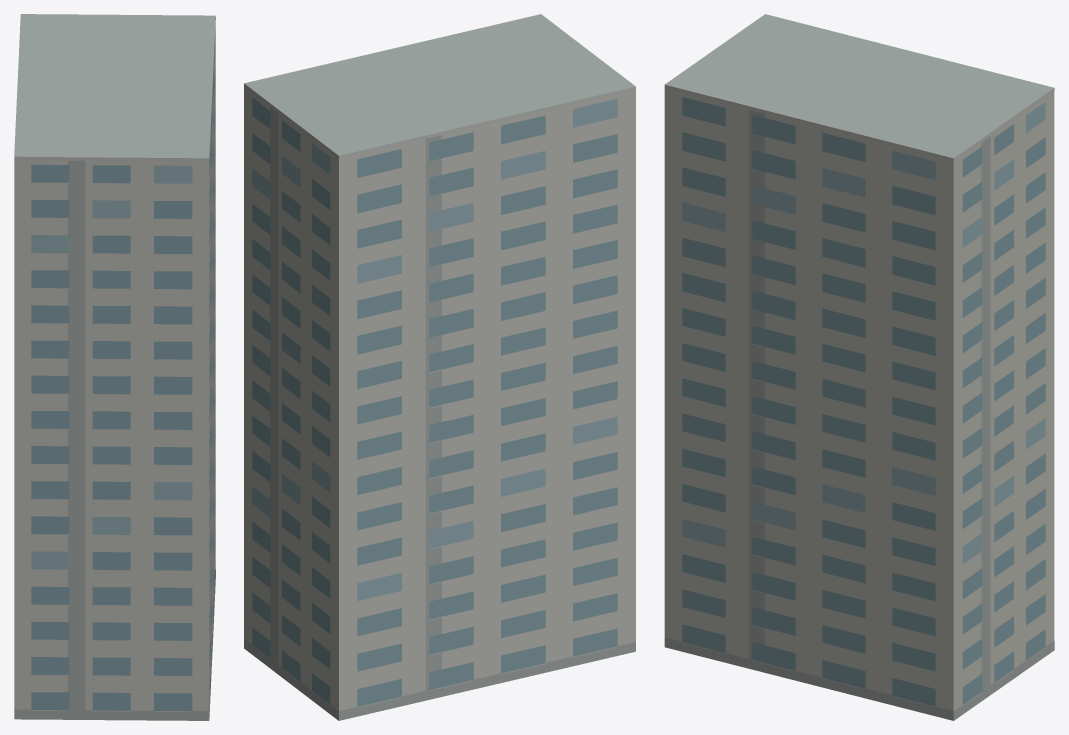
Rendered from residential-8c1d2707-c446-4a66-bb75-1d1a5c26dd10.glb.
3 renders of one model, left to right at view 1: azimuth 30°, elevation 25°; view 2: azimuth 150°, elevation 25°; view 3: azimuth 270°, elevation 25°, orthographic.
Visible parts, largest first — view 1: residential-8c1d2707-c446-4a66-bb75-1d1a5c26dd10.tmp; view 2: residential-8c1d2707-c446-4a66-bb75-1d1a5c26dd10.tmp; view 3: residential-8c1d2707-c446-4a66-bb75-1d1a5c26dd10.tmp.
Part boxes in pixels (x1,y1,x2,y2): residential-8c1d2707-c446-4a66-bb75-1d1a5c26dd10.tmp: [14, 14, 215, 720]; residential-8c1d2707-c446-4a66-bb75-1d1a5c26dd10.tmp: [244, 14, 635, 720]; residential-8c1d2707-c446-4a66-bb75-1d1a5c26dd10.tmp: [664, 14, 1054, 720].
Bounding box in the file's own units: 22.02 × 40 × 25.14.
